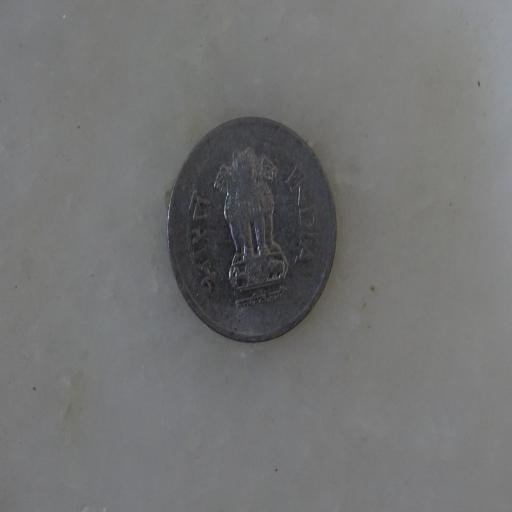rupee1: (160, 116, 339, 344)
